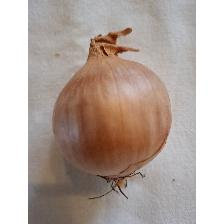Zwiebel: (51, 26, 174, 186)
